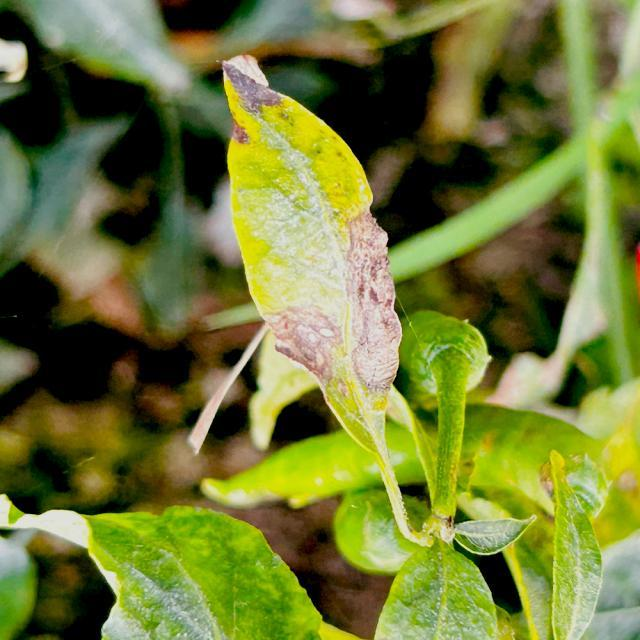Bercak Daun Serkospora: (221, 54, 402, 459)
